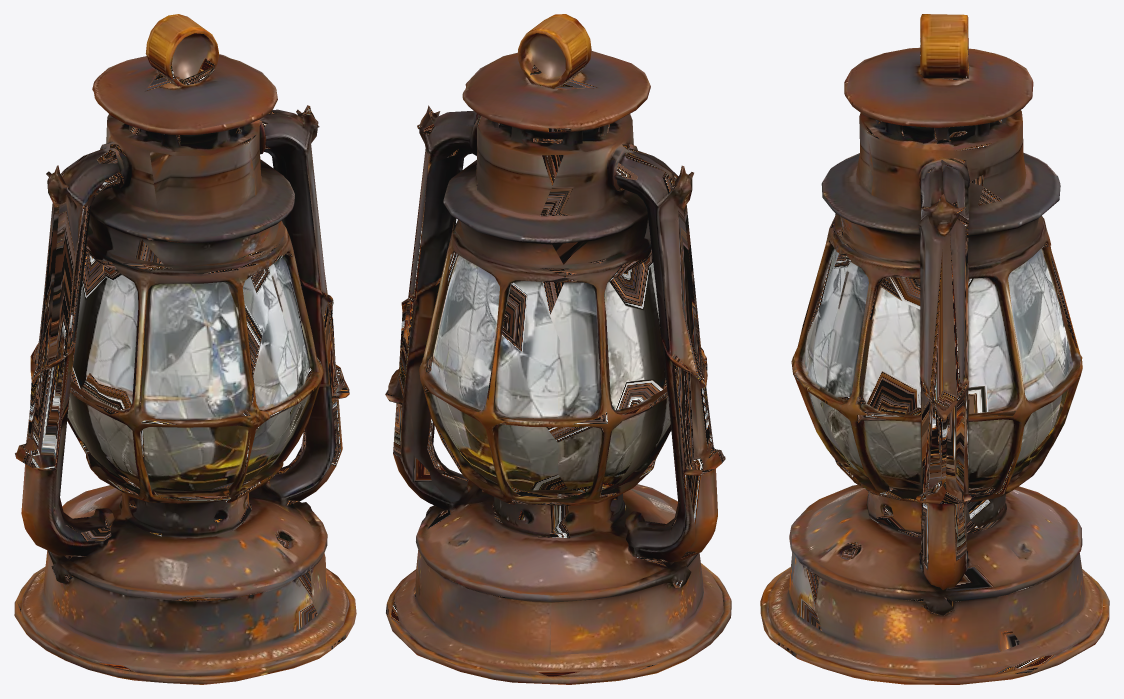
Rendered from rusty_lantern.glb.
3 renders of one model, left to right at view 1: azimuth 30°, elevation 25°; view 2: azimuth 150°, elevation 25°; view 3: azimuth 270°, elevation 25°, orthographic.
Visible parts, largest first — view 1: model; view 2: model; view 3: model.
Part boxes in pixels (left/top/right/bottom): model: left=14, top=14, right=356, bottom=684; model: left=385, top=14, right=731, bottom=684; model: left=760, top=14, right=1109, bottom=684.
Bounding box in the file's own units: 1.03 × 1.79 × 0.9464.
1 material, 1 textured.
